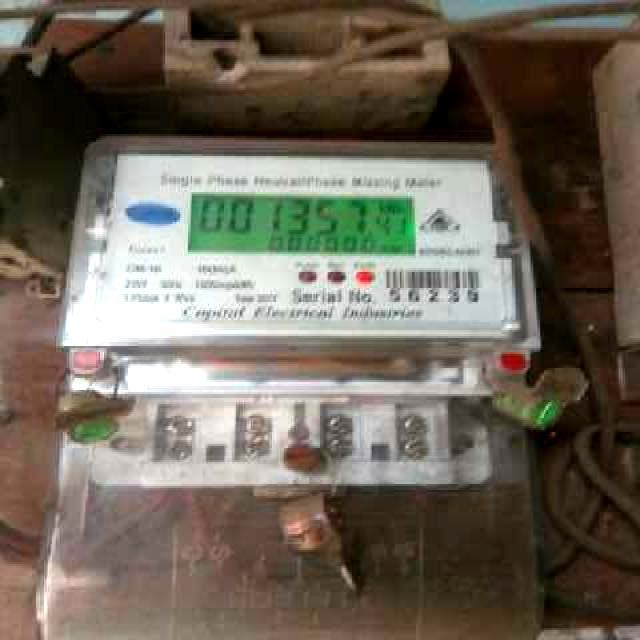LCD: (183, 188, 423, 263)
